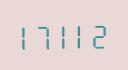one: (18, 20, 35, 50), (72, 19, 89, 49), (54, 20, 71, 49)
seven: (36, 20, 53, 50)
two: (90, 19, 107, 49)
